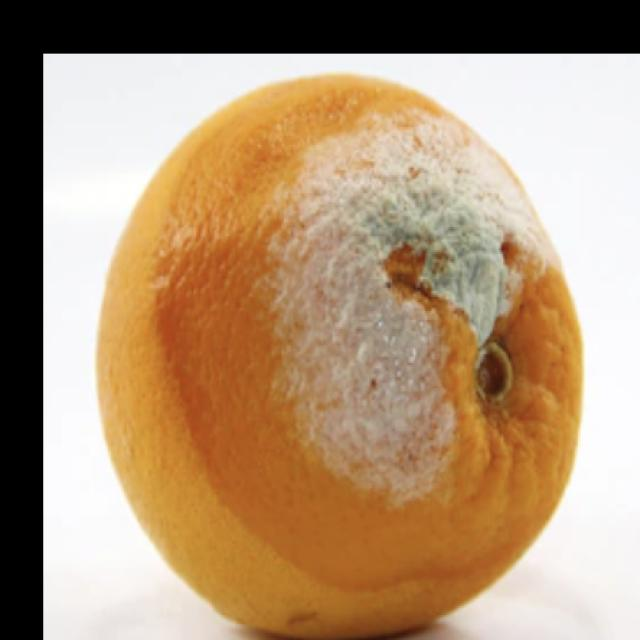sedikit_busuk: (95, 72, 576, 636)
